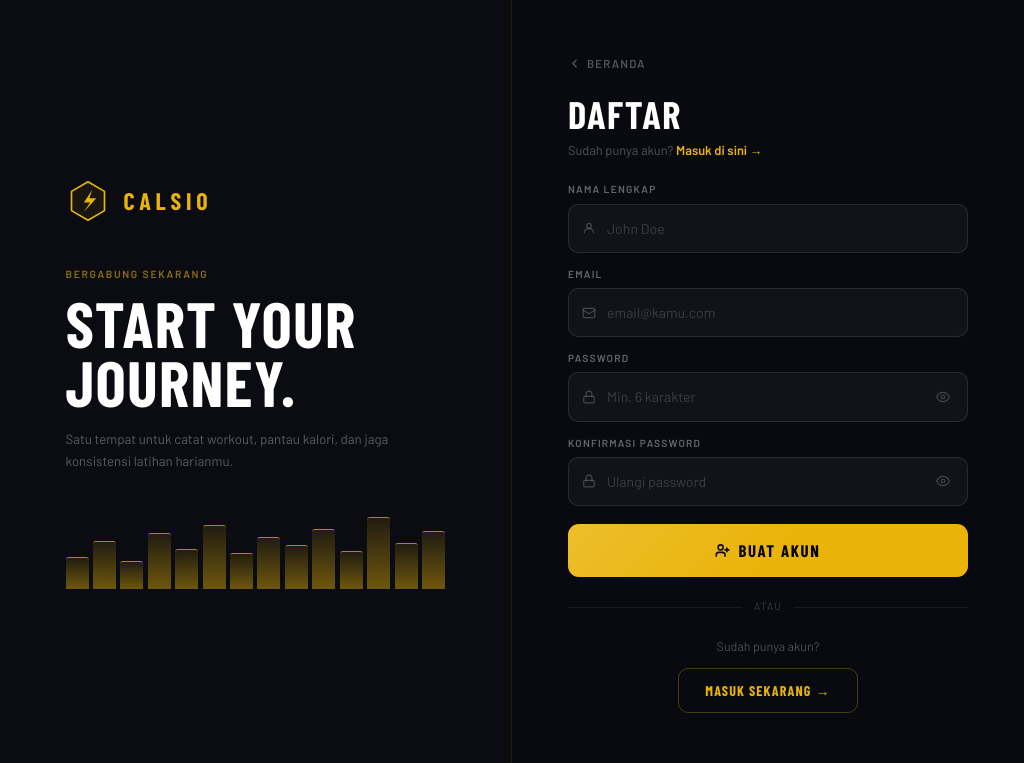
Test: Auth - Register Flow › validasi form register kosong
The width and height of the screenshot is (1024, 763).
Step 1. Click the button "Buat Akun" → (768, 551), box [568,524,968,577]
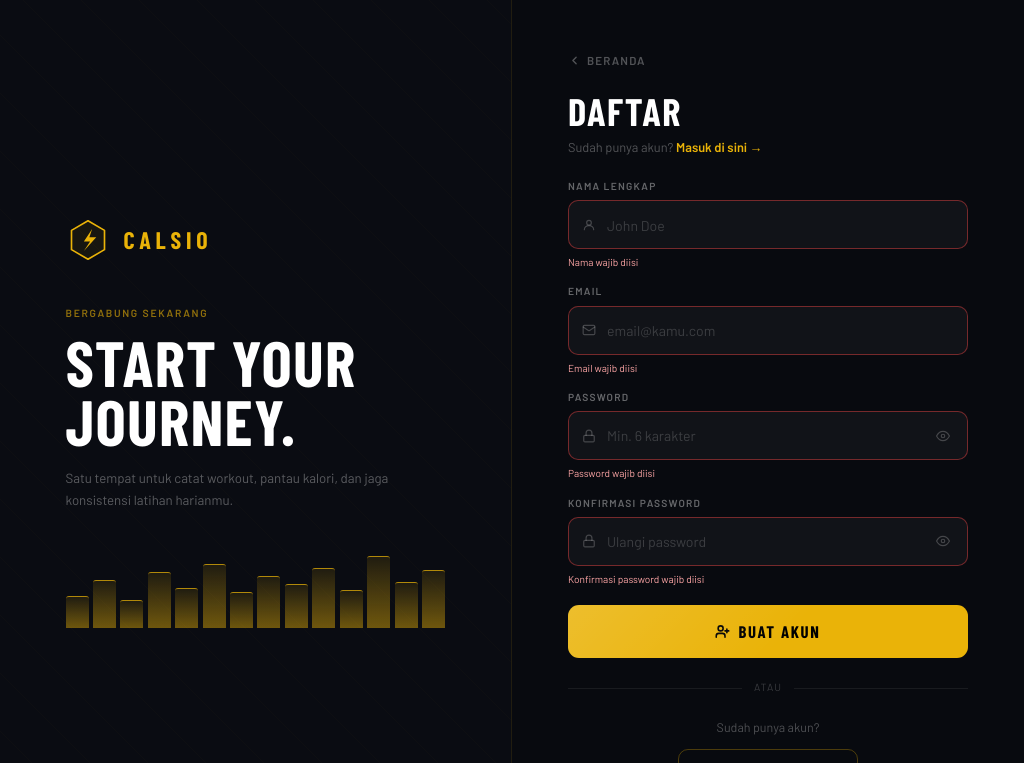
Expected: the text "Nama wajib diisi" is shown, [568,256,638,268]
Expected: the text "Email wajib diisi" is shown, [568,362,637,374]
Expected: the text "Password wajib diisi" is shown, [568,467,655,479]
